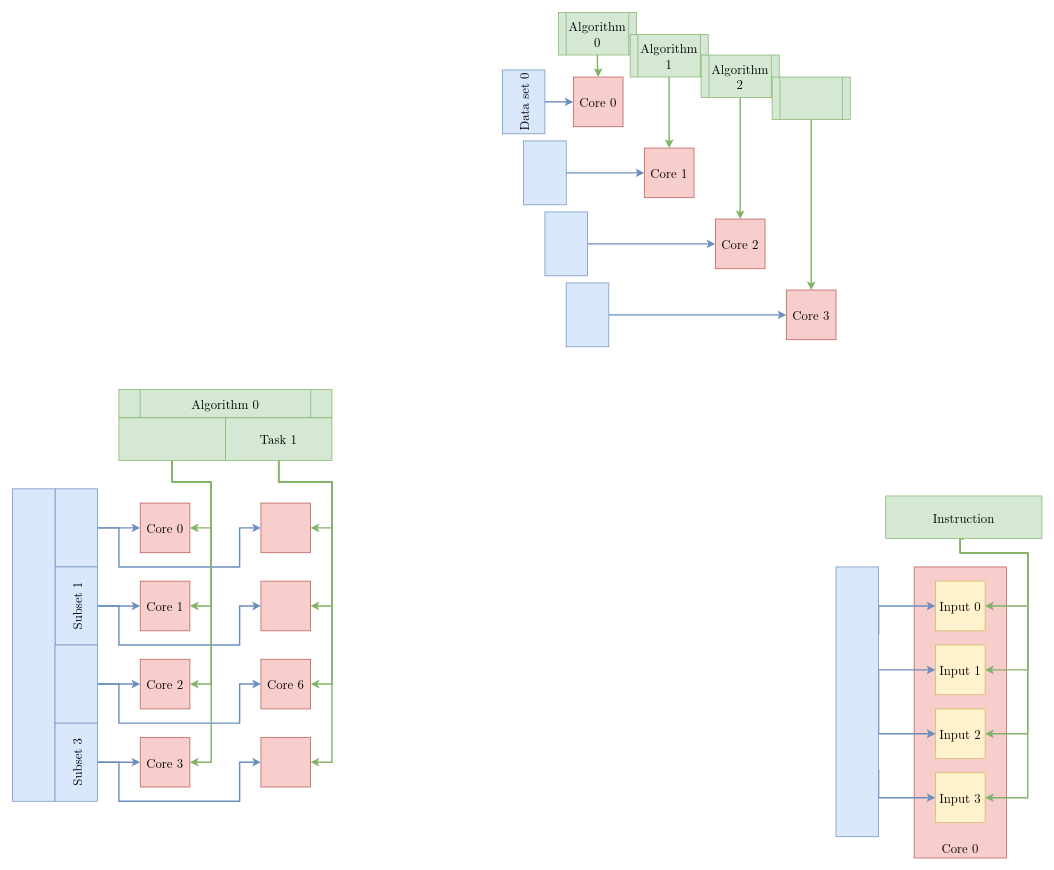
The diagram is 1054 pixels wide and 870 high, and some of its shapes have lost their labels. Here are the shapes that lost their labels. From the top down, the box of each, then its label:
(771, 76, 850, 120): Algorithm 3
(523, 140, 566, 205): Data set 1
(544, 211, 588, 276): Data set 2
(566, 282, 609, 347): Data set 3
(118, 417, 225, 460): Task 0
(54, 488, 98, 567): Subset 0
(260, 502, 311, 553): Core 4
(260, 580, 311, 631): Core 5
(12, 488, 55, 801): Data set
(54, 644, 98, 723): Subset 2
(835, 566, 879, 837): Data set / Thread set
(260, 737, 311, 787): Core 7
